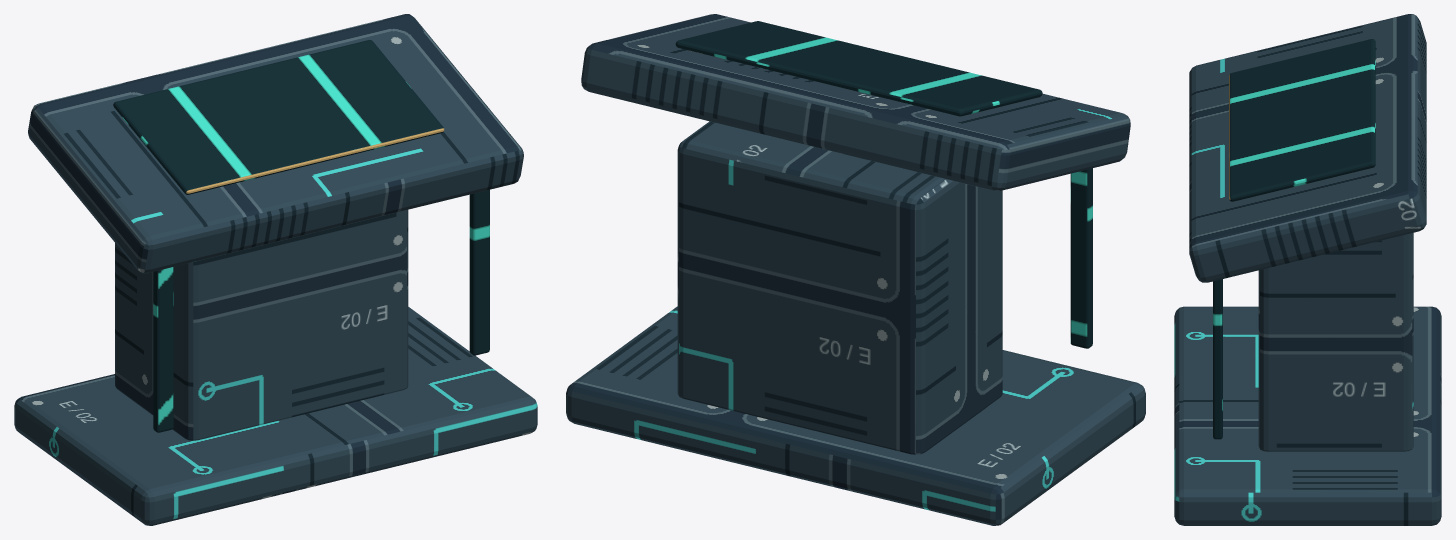
Rendered from Estacion.fbx.
The picture shows the model from 3 angles, left to right: view 1: azimuth 30°, elevation 25°; view 2: azimuth 150°, elevation 25°; view 3: azimuth 270°, elevation 25°; orthographic projection. The views are drawn at different scales.
Visible parts, largest first — view 1: Estacion; view 2: Estacion; view 3: Estacion.
Part boxes in pixels (x1,y1,x2,y2): Estacion: [14, 14, 537, 525]; Estacion: [566, 14, 1145, 525]; Estacion: [1174, 14, 1441, 525].
Size of the model in its own units: 160 by 131 by 95.
